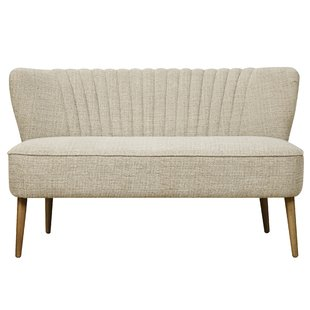chairs: (3, 64, 310, 261)
